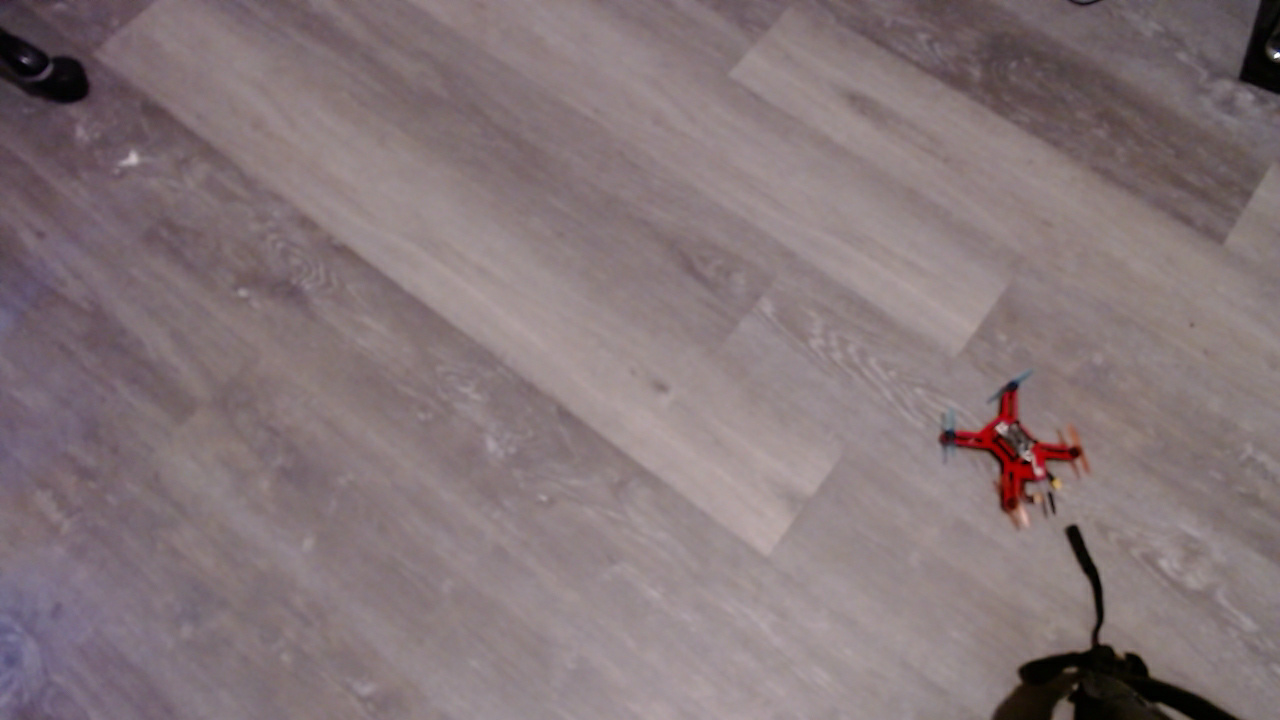crazyflie: (945, 371, 1107, 542)
